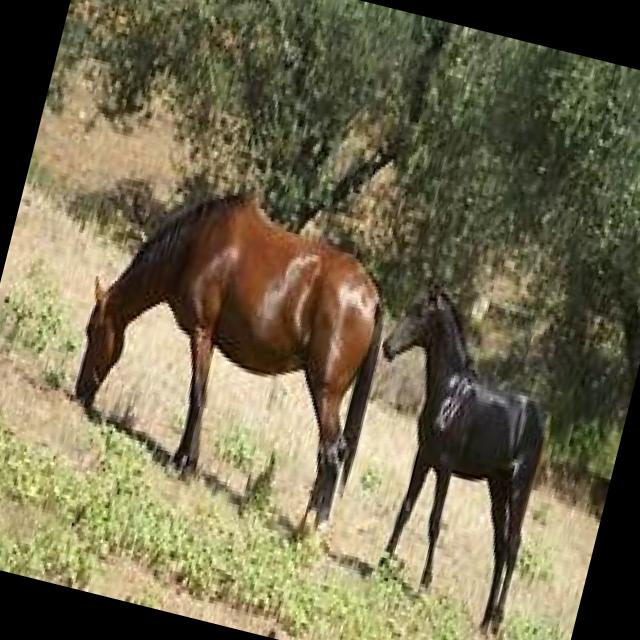horse: (46, 155, 414, 545), (319, 269, 583, 640)
